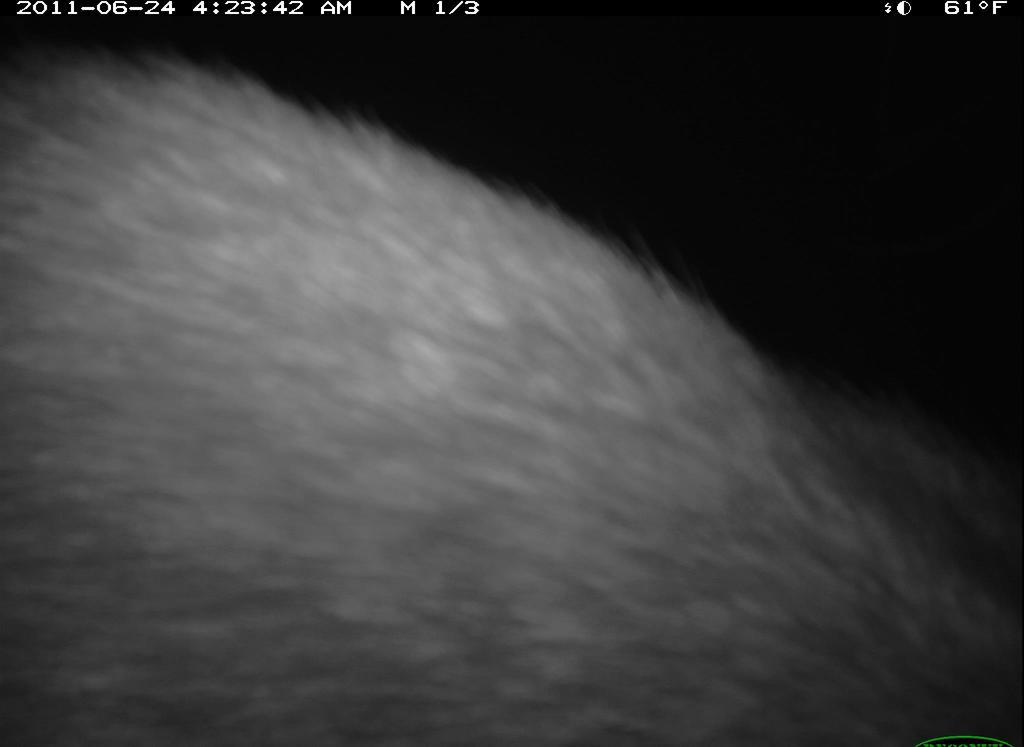raccoon: (4, 43, 1022, 747)
